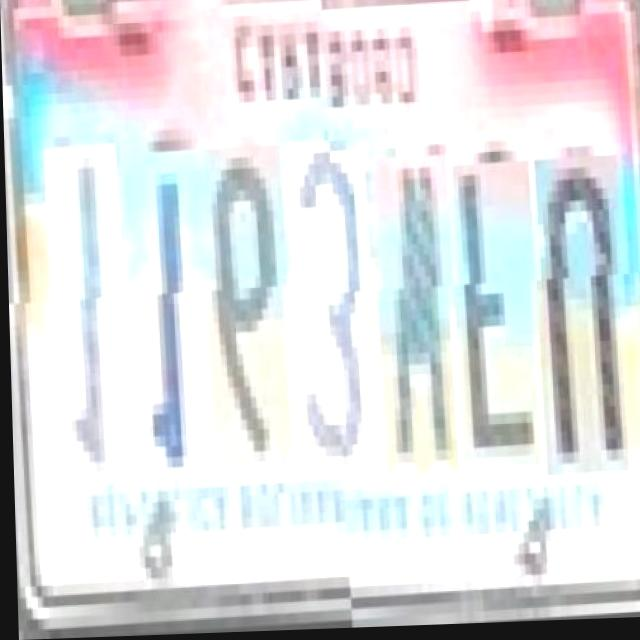1: (122, 150, 221, 483), (45, 145, 132, 487)
3: (287, 143, 381, 475)
6: (205, 147, 298, 479)
f: (453, 157, 544, 466)
u: (535, 152, 633, 473)
w: (376, 150, 462, 471)
